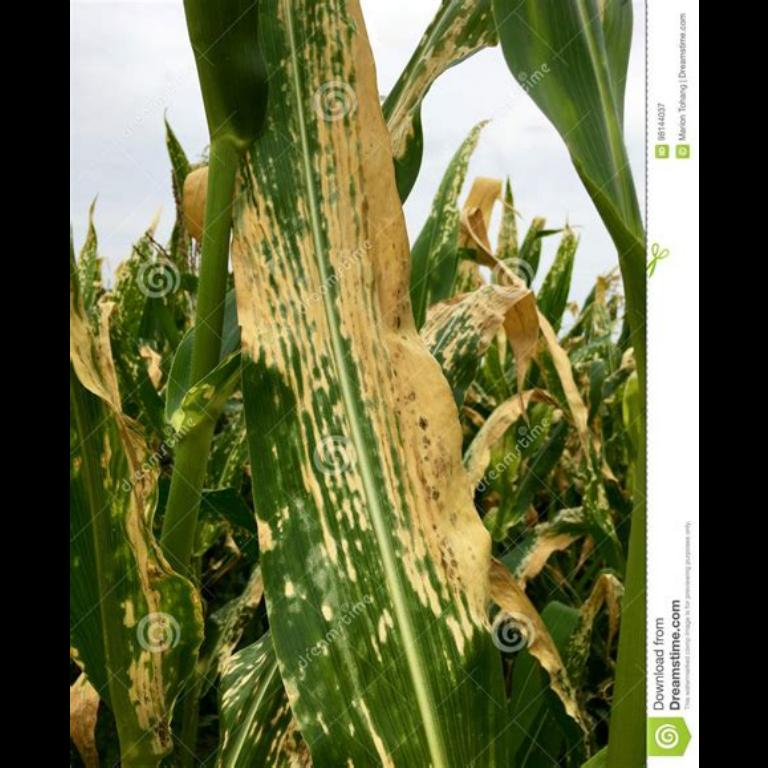blight: (316, 148, 410, 582)
